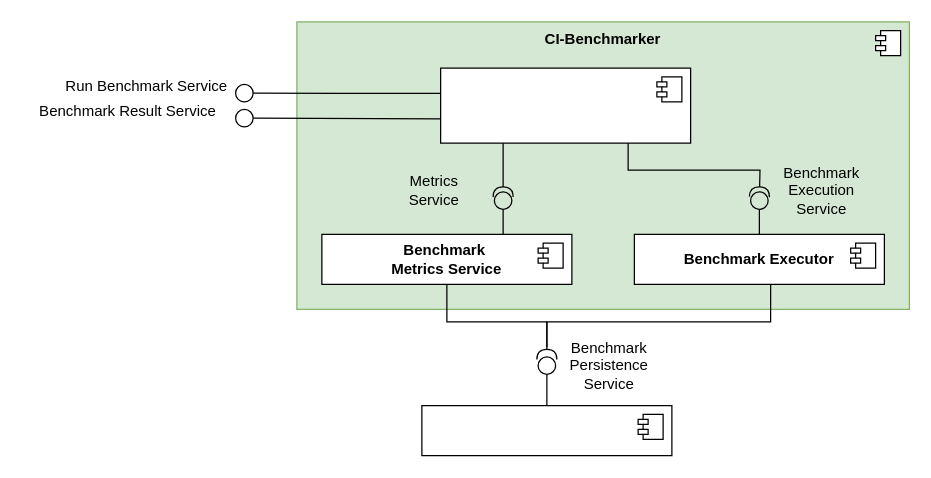
Image size: 931x478. Some labels were removed from this diagram. Each missing label, with the centre of its shape:
"Benchmark Controller" belongs at point 565,105.
"Benchmark Database" belongs at point 546,430.
